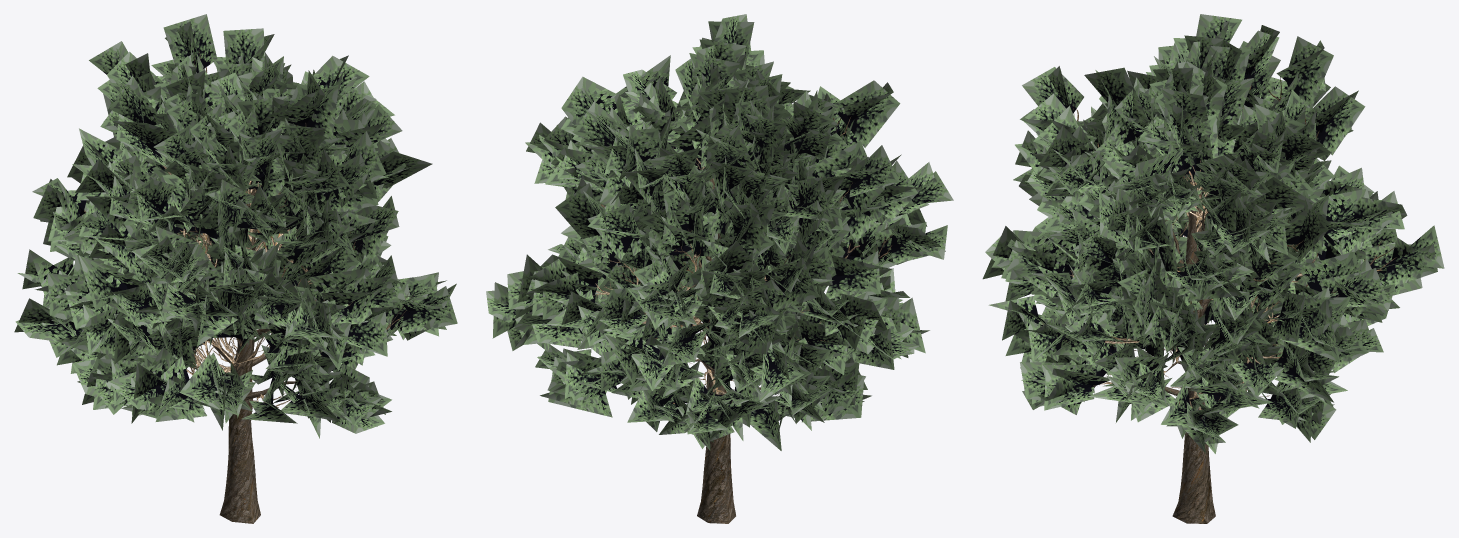
The model's file is arvore_b.glb.
The picture shows the model from 3 angles, left to right: view 1: azimuth 30°, elevation 25°; view 2: azimuth 150°, elevation 25°; view 3: azimuth 270°, elevation 25°; orthographic projection.
Visible parts, largest first — view 1: Leaf_6.002, Bark_9.002; view 2: Leaf_6.002, Bark_9.002; view 3: Leaf_6.002, Bark_9.002.
Boxes of the visible parts, box(x1,y1,x2,y2) form: Leaf_6.002: box(14, 14, 457, 438); Bark_9.002: box(208, 188, 295, 523); Leaf_6.002: box(486, 14, 953, 450); Bark_9.002: box(681, 179, 760, 523); Leaf_6.002: box(982, 14, 1444, 453); Bark_9.002: box(1165, 176, 1277, 523).
Bounding box in the file's own units: 4.28 × 4.63 × 4.18.
Materials: 3 (3 with a texture image).
